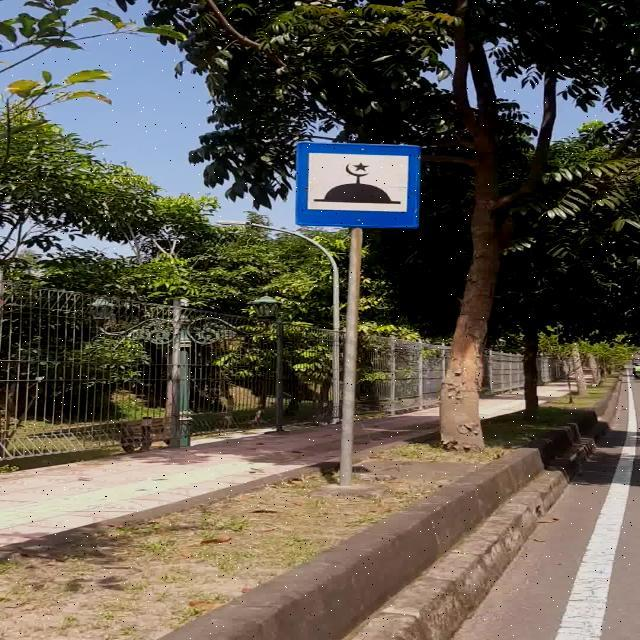Masjid: (296, 142, 420, 229)
